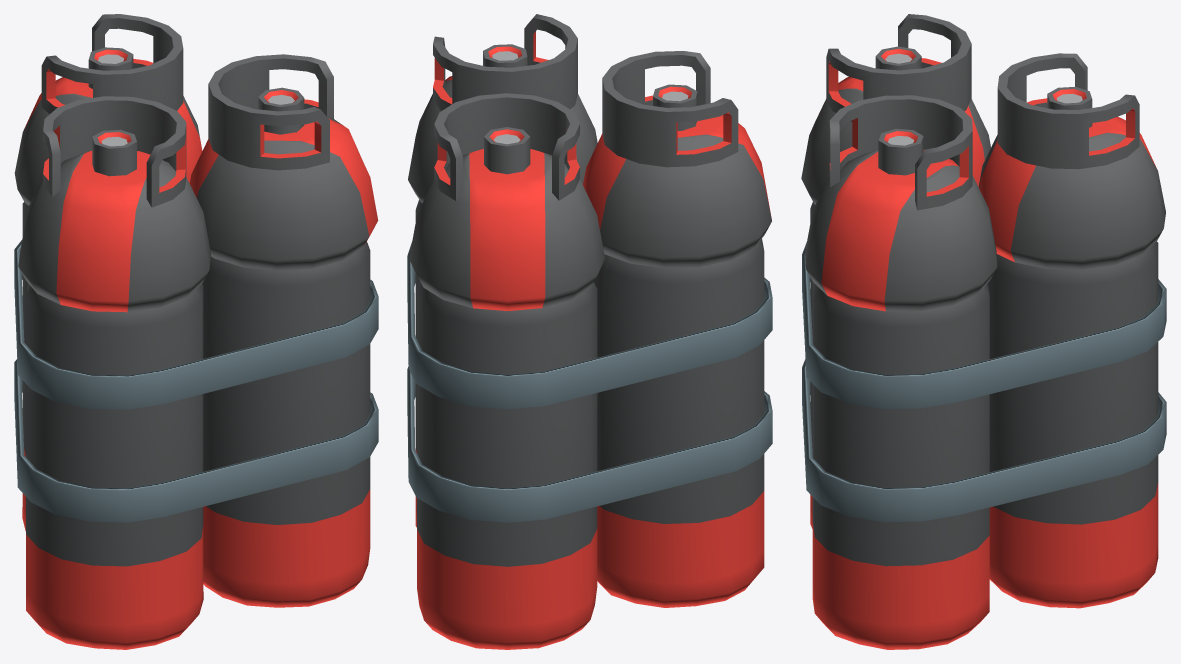
Rendered from Baloon_014.fbx.
3 views of the same model, side by side, from view 1: azimuth 30°, elevation 25°; view 2: azimuth 150°, elevation 25°; view 3: azimuth 270°, elevation 25° (orthographic).
Parts seen in each view (by area): view 1: Baloon_014; view 2: Baloon_014; view 3: Baloon_014.
Boxes of the visible parts, x1,y1,x2,y2 form: Baloon_014: (14, 14, 378, 649); Baloon_014: (407, 14, 772, 649); Baloon_014: (801, 14, 1166, 649).
Bounding box in the file's own units: 76.95 × 72.47 × 107.
